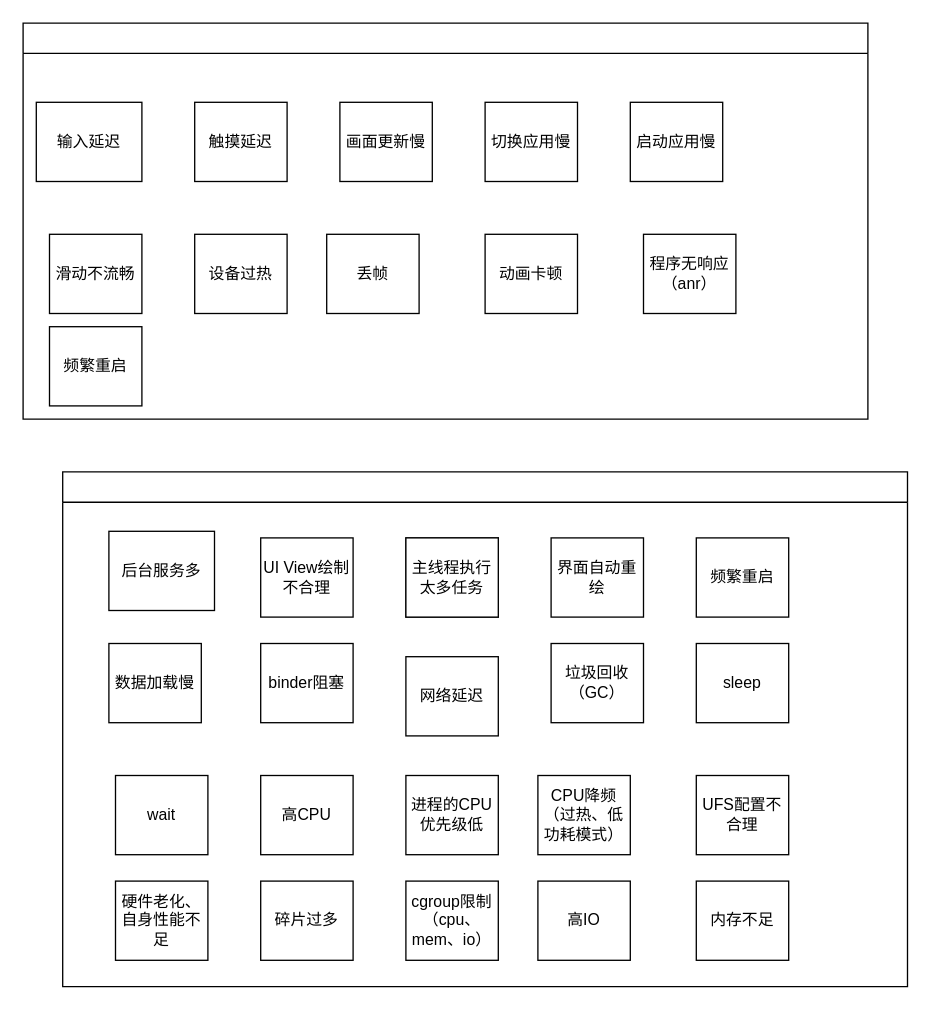
The diagram is 931 pixels wide and 1010 high, and some of its shapes have lost their labels. The box of each missing label's shape, as (x1, y1, x2, y2) in pixels:
卡顿: (22, 22, 868, 419)
原因: (61, 471, 908, 987)
